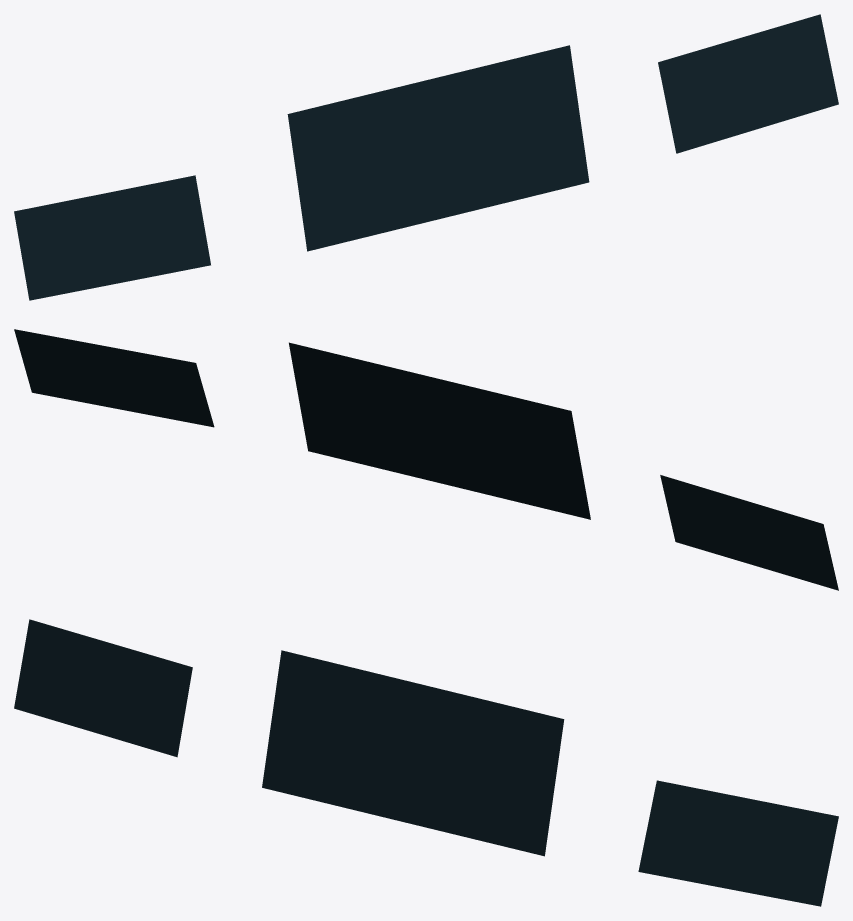
The model's file is pult-ekrany.glb.
3 renders of one model, top to bottom at view 1: azimuth 30°, elevation 25°; view 2: azimuth 150°, elevation 25°; view 3: azimuth 330°, elevation 25°, orthographic.
Parts seen in each view (by area): view 1: pult-ekrany; view 2: pult-ekrany; view 3: pult-ekrany.
Boxes of the visible parts, bbox=[...] form: pult-ekrany: bbox=[14, 14, 838, 300]; pult-ekrany: bbox=[14, 329, 838, 590]; pult-ekrany: bbox=[14, 619, 838, 906].
Size of the model in its own units: 2.06 by 0.3 by 0.1405.
1 material, 1 textured.
